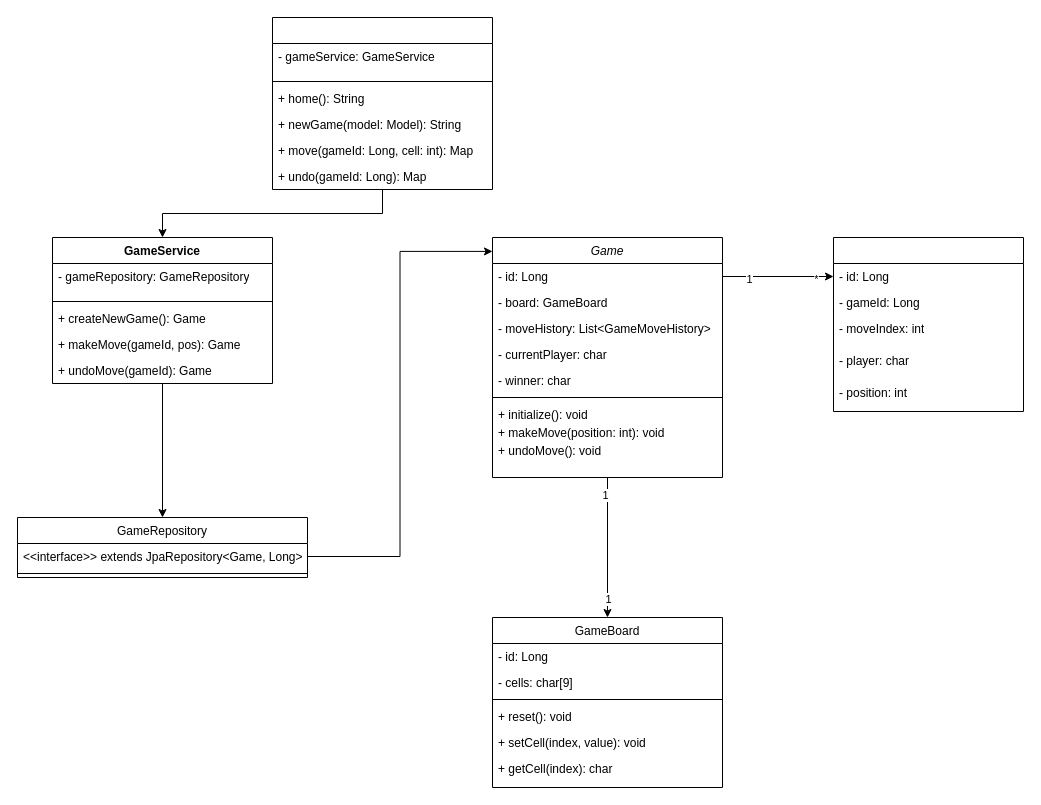
This 1041x805 diagram has some shape labels left out. Here are the shapes that lost their labels. From the top down, the box of each, then its label:
(272, 16, 492, 190): GameController
(832, 236, 1024, 412): GameMoveHistory
